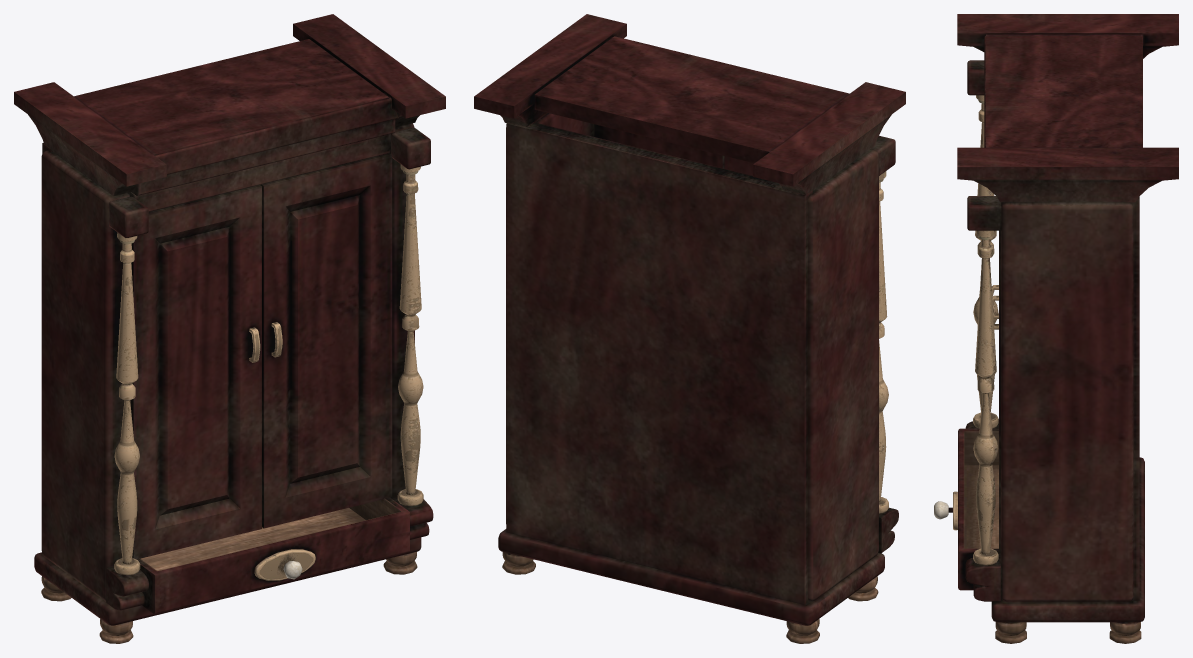
The model's file is cabinet.glb.
The picture shows the model from 3 angles, left to right: view 1: azimuth 30°, elevation 25°; view 2: azimuth 150°, elevation 25°; view 3: azimuth 270°, elevation 25°; orthographic projection.
Visible parts, largest first — view 1: polySurface2; view 2: polySurface2; view 3: polySurface2.
Boxes of the visible parts, box(x1,y1,x2,y2) form: polySurface2: box(14, 14, 445, 643); polySurface2: box(474, 14, 905, 643); polySurface2: box(934, 14, 1178, 643).
Bounding box in the file's own units: 1.37 × 2 × 0.9261.
Materials: 1 (1 with a texture image).
